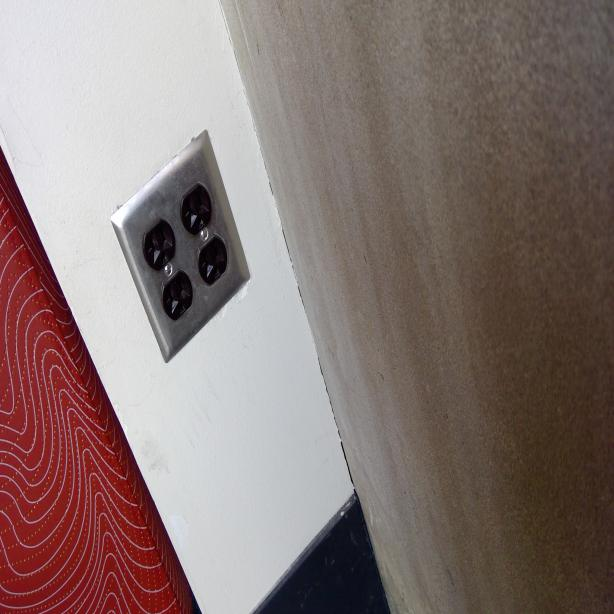typeb: (162, 275, 193, 322), (142, 221, 173, 264), (181, 187, 209, 230), (200, 242, 228, 280)
